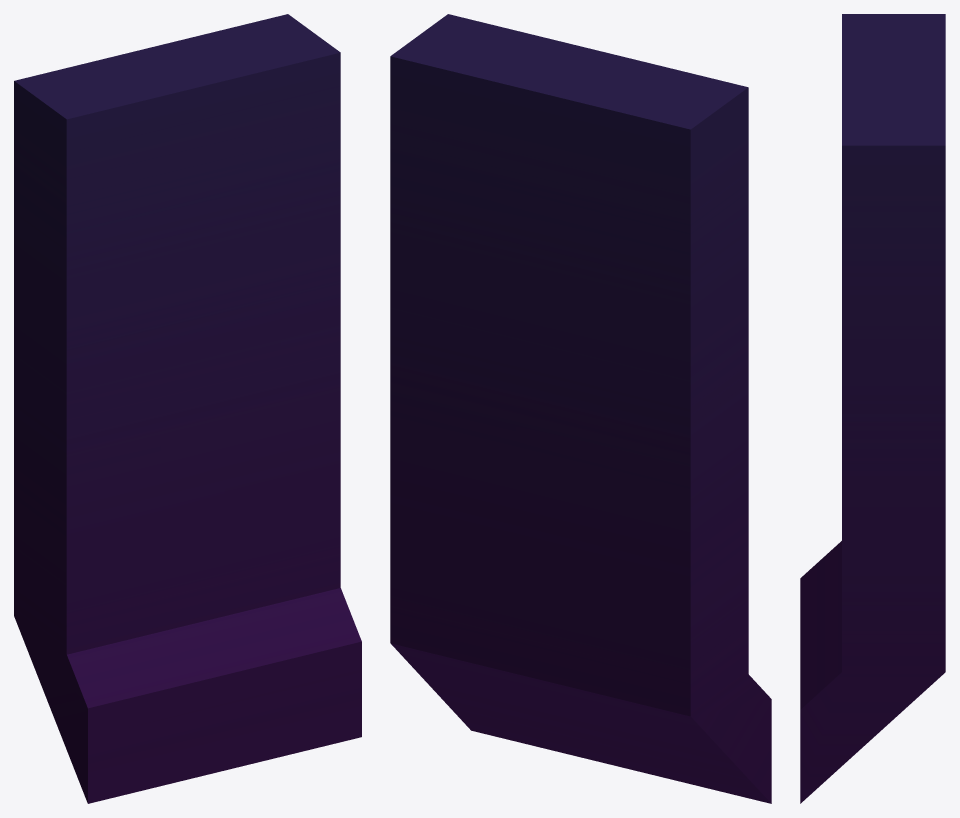
The model's file is SM_Wall_Plain.fbx.
The picture shows the model from 3 angles, left to right: view 1: azimuth 30°, elevation 25°; view 2: azimuth 150°, elevation 25°; view 3: azimuth 270°, elevation 25°; orthographic projection. The views are drawn at different scales.
Parts seen in each view (by area): view 1: SM_Wall_Plain; view 2: SM_Wall_Plain; view 3: SM_Wall_Plain.
Part boxes in pixels (<box>): SM_Wall_Plain: <box>14,14,361,803</box>; SM_Wall_Plain: <box>390,14,771,803</box>; SM_Wall_Plain: <box>800,14,945,803</box>.
Bounding box in the file's own units: 150 × 350 × 70.
